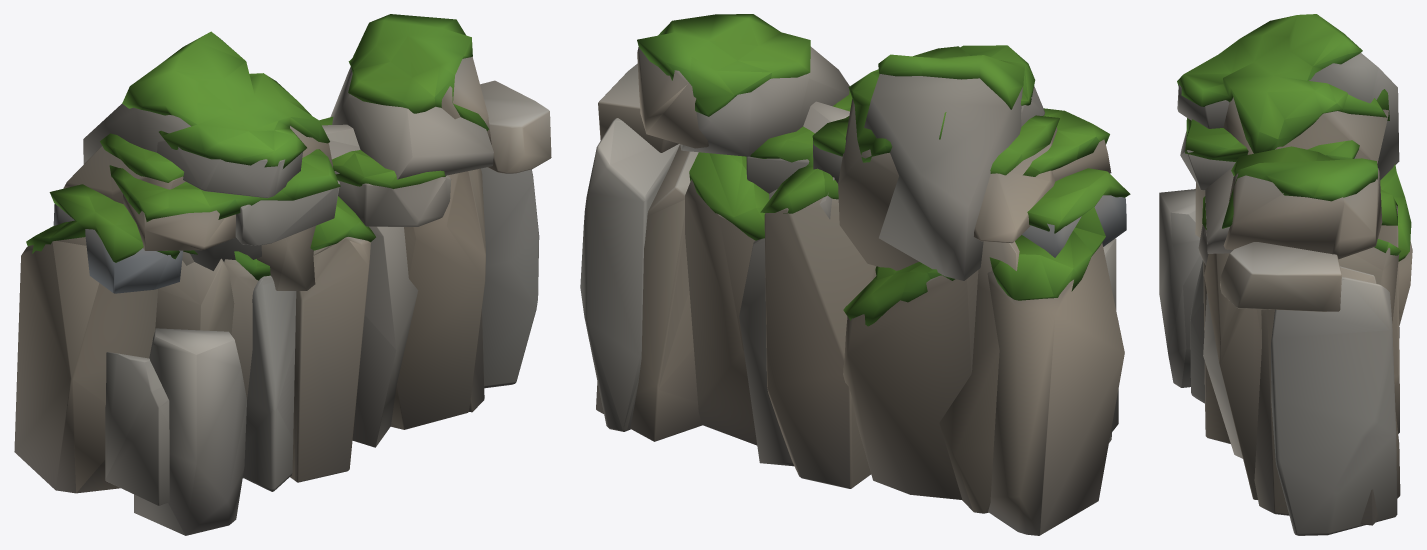
Rendered from glade_bluff_rim_lod2.glb.
The picture shows the model from 3 angles, left to right: view 1: azimuth 30°, elevation 25°; view 2: azimuth 150°, elevation 25°; view 3: azimuth 270°, elevation 25°; orthographic projection. The views are drawn at different scales.
Visible parts, largest first — view 1: glade_bluff_rim.001, moss.001; view 2: glade_bluff_rim.001, moss.001; view 3: glade_bluff_rim.001, moss.001.
Part boxes in pixels (box(x1,y1,x2,y2)): glade_bluff_rim.001: box(14, 56, 551, 535); moss.001: box(26, 14, 488, 280); glade_bluff_rim.001: box(580, 46, 1126, 535); moss.001: box(637, 14, 1130, 326); glade_bluff_rim.001: box(1159, 53, 1412, 535); moss.001: box(1177, 14, 1411, 261).
Bounding box in the file's own units: 34.59 × 28.38 × 17.27.
